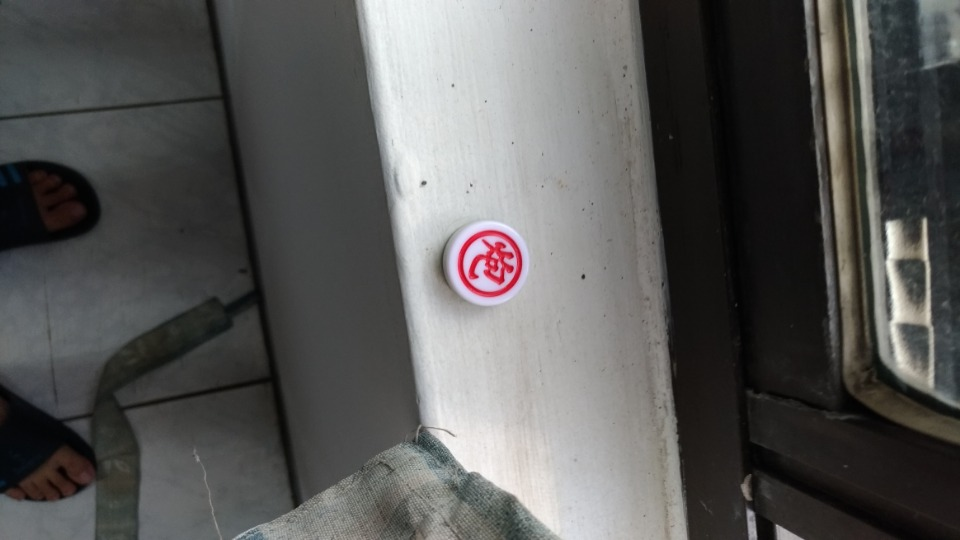r-cannon: (438, 214, 541, 311)
